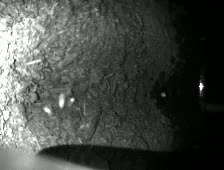corn: (59, 94, 65, 109), (43, 107, 52, 114), (160, 91, 167, 98), (70, 97, 76, 102)
